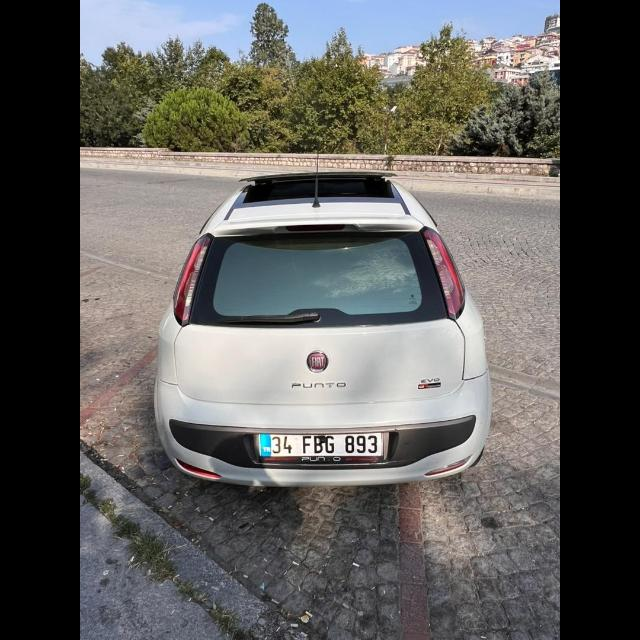Plaka: (260, 432, 384, 456)
